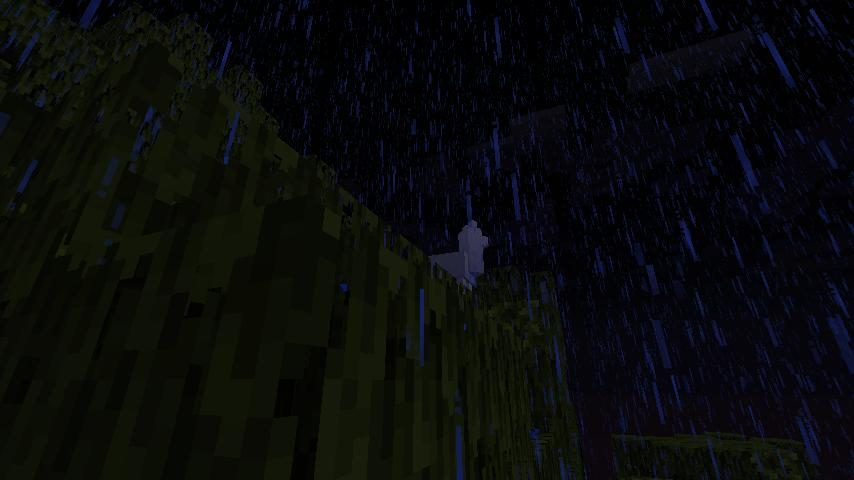llama: (427, 216, 493, 293)
